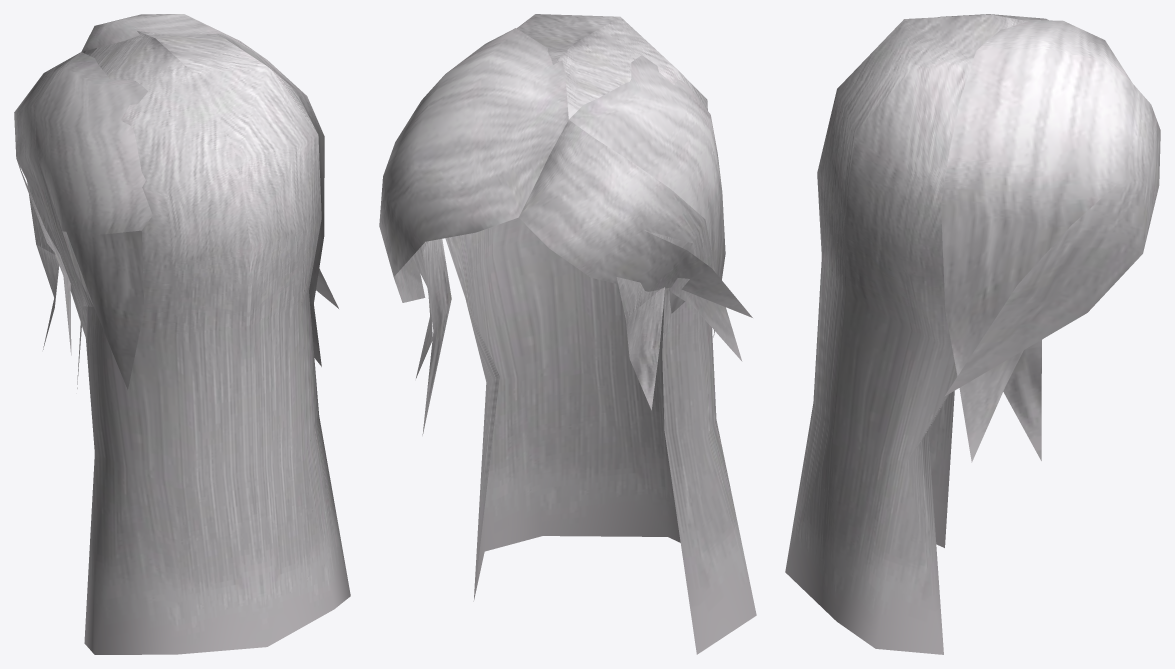
File: Wizard female hair 15.glb
3 views of the same model, side by side, from view 1: azimuth 30°, elevation 25°; view 2: azimuth 150°, elevation 25°; view 3: azimuth 270°, elevation 25° (orthographic). The views are drawn at different scales.
Parts seen in each view (by area): view 1: 0002_0; view 2: 0002_0; view 3: 0002_0.
Boxes of the visible parts, x1,y1,x2,y2 form: 0002_0: (14,14,350,654); 0002_0: (379,14,756,654); 0002_0: (785,14,1160,654).
Size of the model in its own units: 0.1827 by 0.3449 by 0.2016.
1 material, 1 textured.
